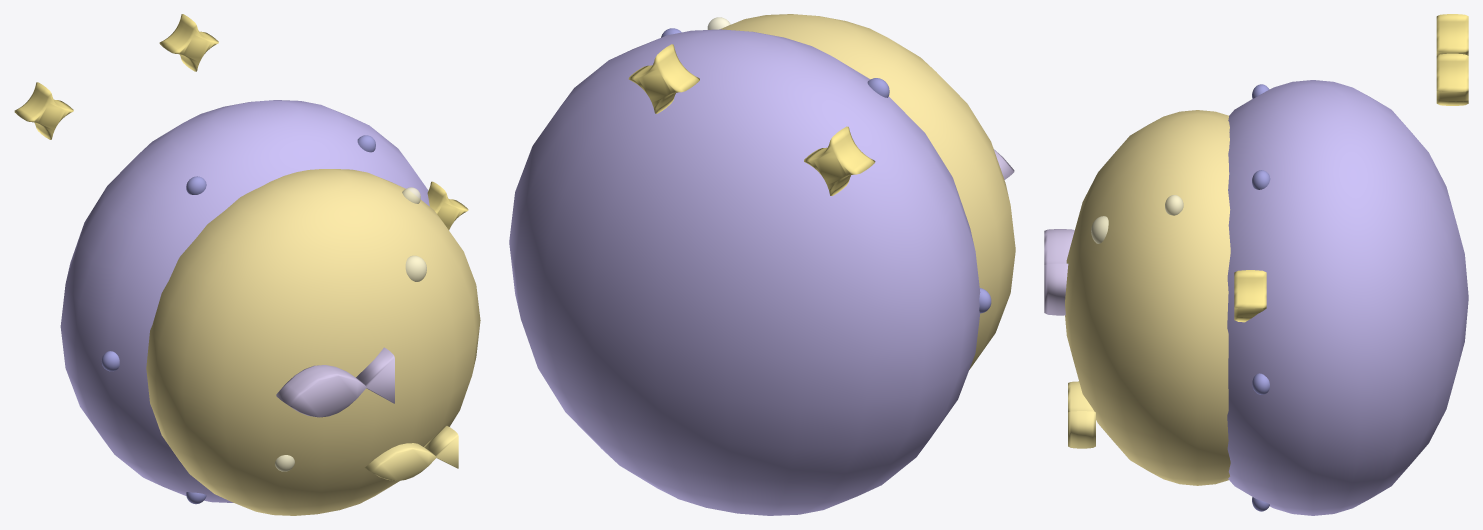
File: decor_2_star.glb
3 renders of one model, left to right at view 1: azimuth 30°, elevation 25°; view 2: azimuth 150°, elevation 25°; view 3: azimuth 270°, elevation 25°, orthographic. The views are drawn at different scales.
Parts seen in each view (by area): view 1: decor_2_star; view 2: decor_2_star; view 3: decor_2_star.
Part boxes in pixels (<box>): decor_2_star: <box>14,14,480,515</box>; decor_2_star: <box>509,14,1015,515</box>; decor_2_star: <box>1044,14,1468,515</box>.
Size of the model in its own units: 11.6 by 12.97 by 11.29.
